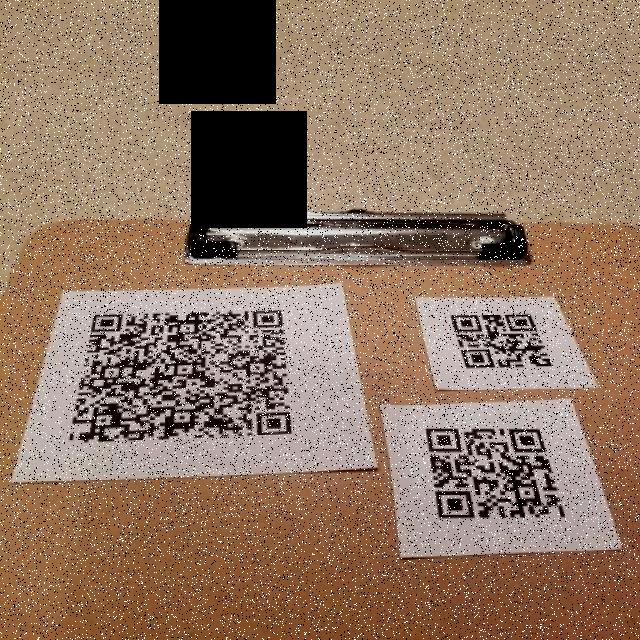QR_CODE: (61, 301, 309, 454), (415, 420, 576, 532), (442, 302, 564, 378)
